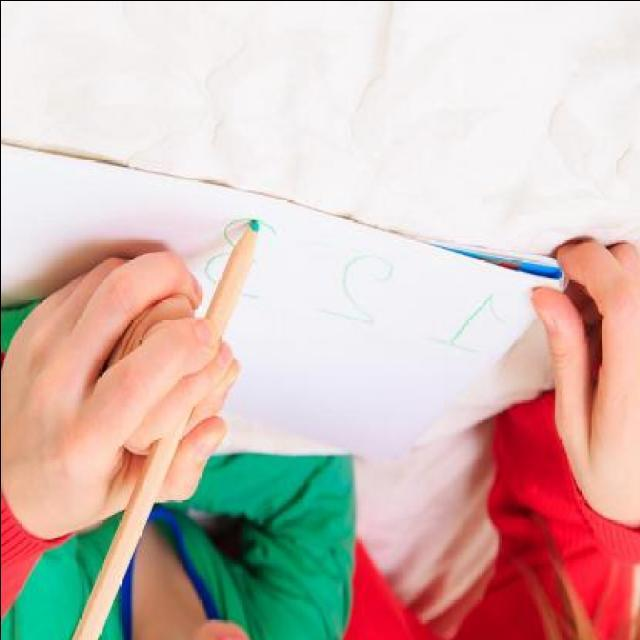Pencil: (212, 212, 268, 304)
